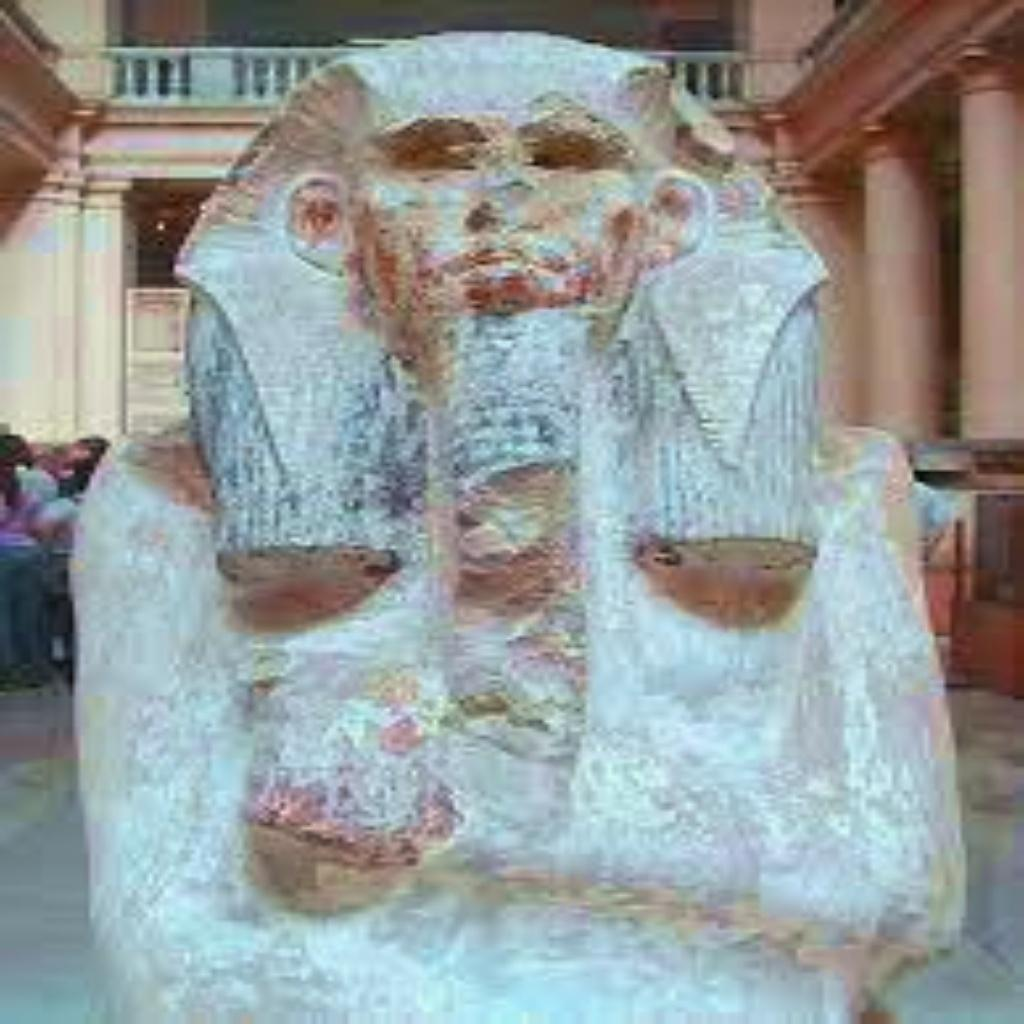Statue of King Zoser: (64, 28, 972, 1020)
